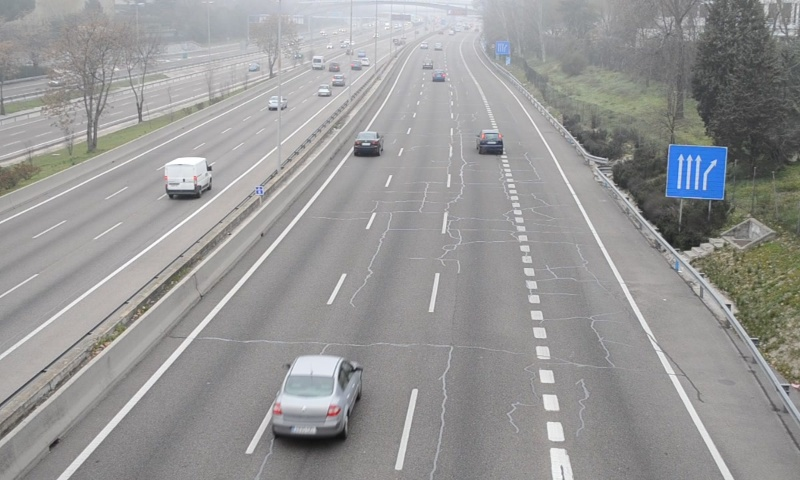car: (271, 356, 364, 439), (354, 131, 381, 155), (477, 128, 502, 153)
